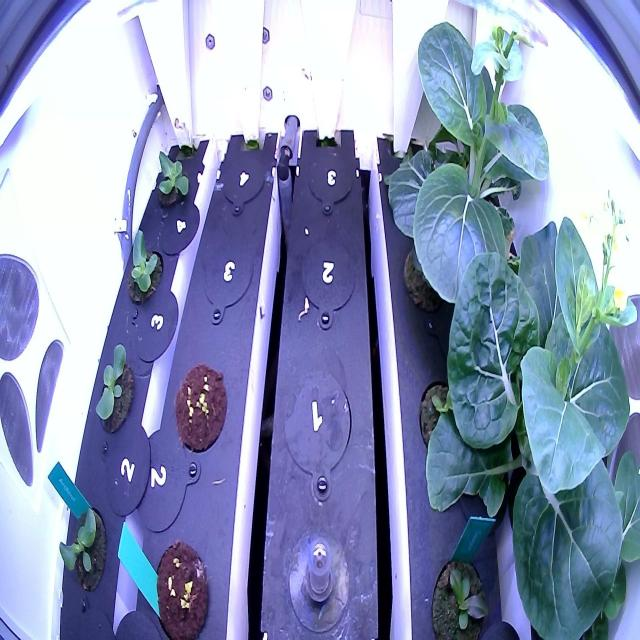empty_pod: (280, 364, 358, 513), (294, 233, 357, 337), (196, 235, 256, 328), (301, 145, 356, 215), (219, 143, 268, 218)
germination: (150, 536, 212, 636), (173, 357, 229, 458)
young: (51, 481, 112, 603), (423, 540, 495, 640), (86, 334, 139, 441), (118, 215, 168, 315), (147, 133, 199, 217)
